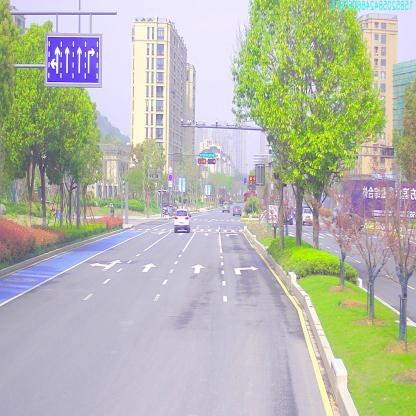traffic-light: (200, 152, 212, 156), (198, 159, 206, 165), (208, 157, 216, 162)
